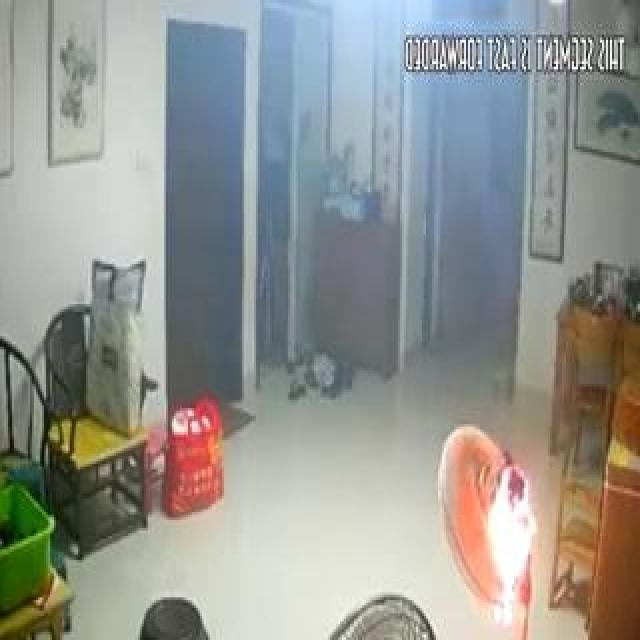Fire: (439, 353, 543, 636)
